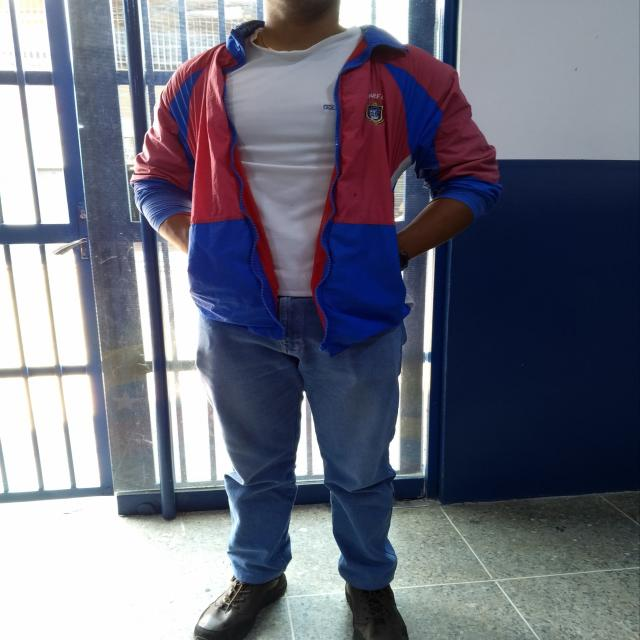chaqueta_unefa: (132, 19, 502, 359)
